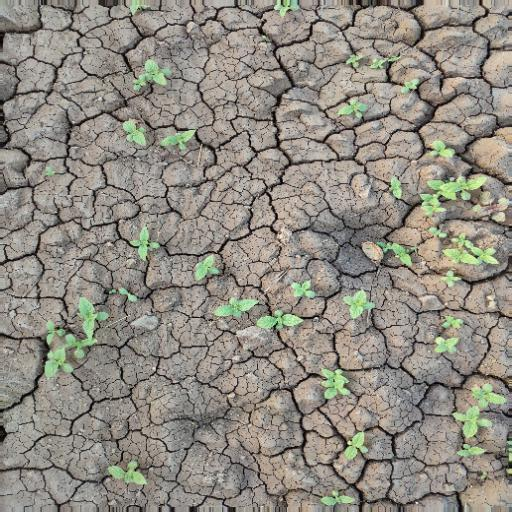crop: (380, 149, 498, 218), (31, 305, 128, 379), (208, 299, 301, 342), (125, 54, 176, 97), (315, 360, 361, 403), (103, 461, 157, 493), (160, 123, 203, 162), (341, 427, 379, 469), (343, 283, 375, 332), (334, 90, 374, 128), (345, 47, 394, 74), (128, 224, 164, 259), (187, 252, 223, 287), (119, 116, 152, 149), (287, 277, 319, 305), (399, 75, 420, 101)
